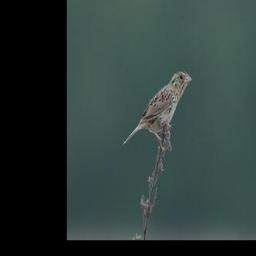Sparrow: (122, 69, 191, 152)
